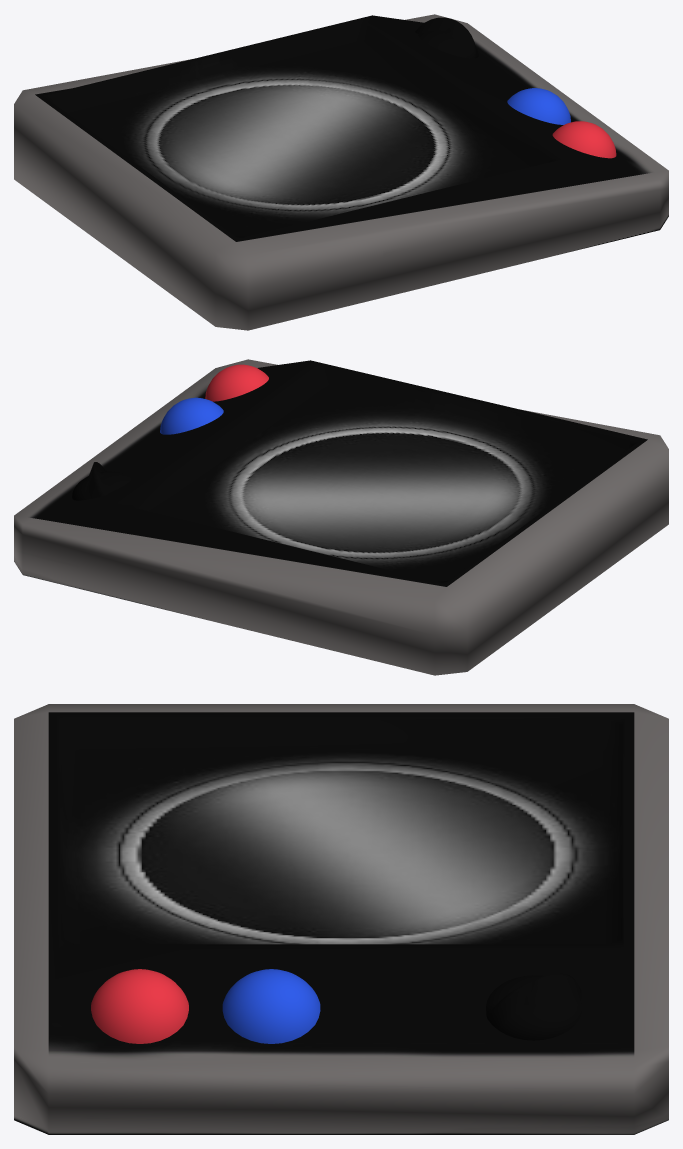
File: stove.fbx
The picture shows the model from 3 angles, top to bottom: view 1: azimuth 30°, elevation 25°; view 2: azimuth 150°, elevation 25°; view 3: azimuth 270°, elevation 25°; orthographic projection. The views are drawn at different scales.
Visible parts, largest first — view 1: Cube; view 2: Cube; view 3: Cube.
Boxes of the visible parts, box(x1,y1,x2,y2) form: Cube: box(14, 14, 668, 330); Cube: box(14, 359, 668, 675); Cube: box(14, 704, 668, 1134).
Size of the model in its own units: 172 by 32.53 by 148.
